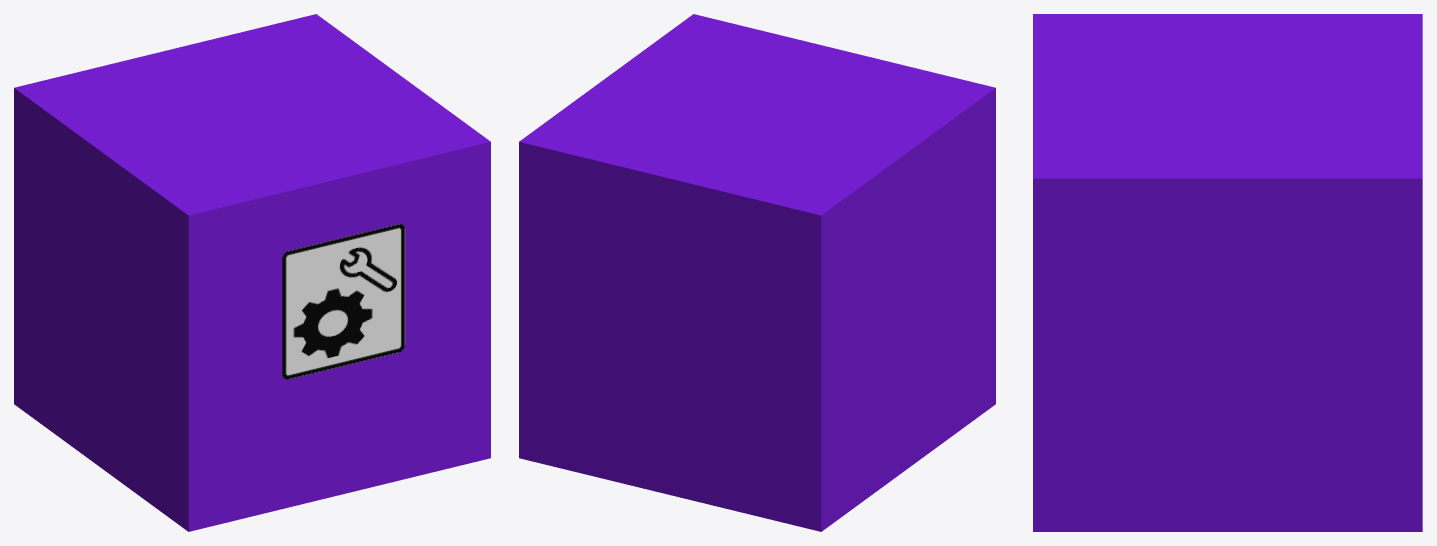
File: machine_fabricator.fbx
3 views of the same model, side by side, from view 1: azimuth 30°, elevation 25°; view 2: azimuth 150°, elevation 25°; view 3: azimuth 270°, elevation 25° (orthographic). The views are drawn at different scales.
Parts seen in each view (by area): view 1: Cube, Plane; view 2: Cube; view 3: Cube.
Part boxes in pixels (x1=…): Cube: x1=14, y1=14, x2=490, y2=531; Plane: x1=282, y1=224, x2=405, y2=379; Cube: x1=519, y1=14, x2=995, y2=531; Cube: x1=1033, y1=14, x2=1422, y2=531.
Size of the model in its own units: 773 by 773 by 790.
